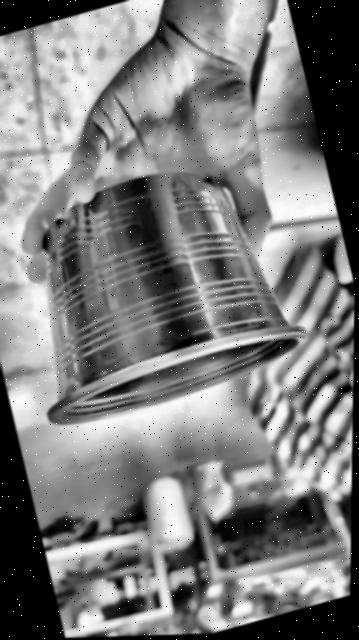pot: (46, 173, 305, 423)
